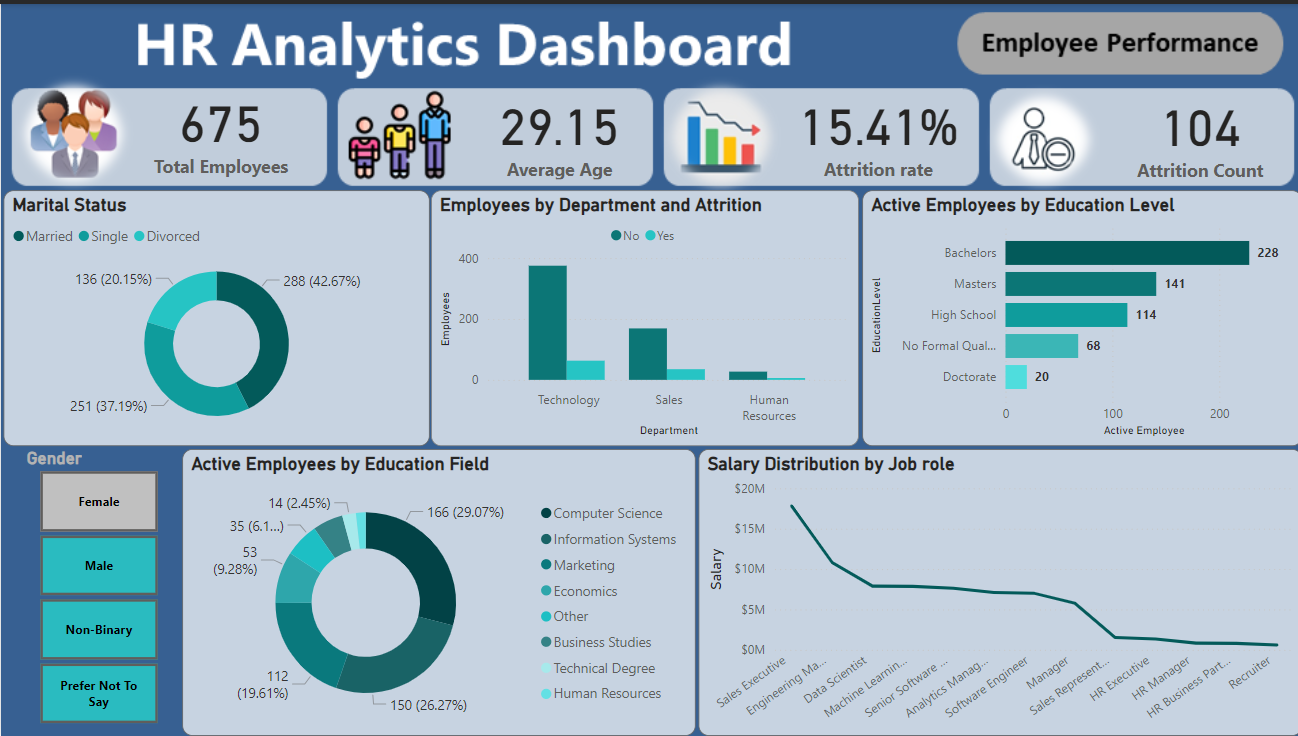

This screenshot's page, from the dashboard's own definition file:
{"tool":"powerbi","page":{"name":"Page 1","canvas":[1280,720],"ordinal":0},"visuals":[{"type":"donutChart","title":"Active Employees by Education Field","fields":{"Y":["EducationLevel.Active Employee"],"Category":["Employee.EducationField"]},"box":[178.4,436.4,503.6,281.3],"z":0},{"type":"card","fields":{"Values":["CountNonNull(Employee.EmployeeID)"]},"box":[82.2,69.9,267.5,108],"z":1000},{"type":"card","fields":{"Values":["EducationLevel.Attrition rate"]},"box":[757.1,72.4,208.6,108],"z":2000},{"type":"donutChart","title":"Marital Status","fields":{"Category":["Employee.MaritalStatus"],"Y":["CountNonNull(Employee.EmployeeID)"]},"box":[2.7,182.5,418.5,251.1],"z":3000},{"type":"lineChart","title":"Salary Distribution by Job role","fields":{"Y":["Sum(Employee.Salary)"],"Category":["Employee.JobRole"]},"box":[684.7,436.4,592.8,281.3],"z":4000},{"type":"clusteredBarChart","title":"Active Employees by Education Level","fields":{"Category":["EducationLevel.EducationLevel"],"Y":["EducationLevel.Active Employee"]},"box":[845.3,182.5,432.2,251.1],"z":5000},{"type":"card","fields":{"Values":["EducationLevel.Attrition Count"]},"box":[1101.8,73.6,150.9,108],"z":6000},{"type":"card","fields":{"Values":["Avg(Employee.Age)"]},"box":[441.7,76.1,213.5,100.6],"z":7000},{"type":"clusteredColumnChart","title":"Employees by Department and Attrition","fields":{"Series":["Employee.Attrition"],"Category":["Employee.Department"],"Y":["CountNonNull(Employee.EmployeeID)"]},"box":[422.6,182.5,419.9,251.1],"z":8000},{"type":"slicer","fields":{"Values":["Employee.Gender"]},"box":[12.3,430.7,165.6,282.2],"z":9000},{"type":"actionButton","box":[939.9,11,312.9,58.9],"z":10000}]}

Visuals, with their boxes in screenshot pixels (x1, y1, x2, y2), scaled from the page's 1280x720 canvas onto the 1298x736 screenshot:
"Active Employees by Education Field" donutChart: 181,446,692,734
card - CountNonNull(Employee.EmployeeID): 83,71,355,182
card - EducationLevel.Attrition rate: 768,74,979,184
"Marital Status" donutChart: 3,187,427,443
"Salary Distribution by Job role" lineChart: 694,446,1295,734
"Active Employees by Education Level" clusteredBarChart: 857,187,1295,443
card - EducationLevel.Attrition Count: 1117,75,1270,186
card - Avg(Employee.Age): 448,78,664,181
"Employees by Department and Attrition" clusteredColumnChart: 429,187,854,443
slicer - Employee.Gender: 12,440,180,729
actionButton: 953,11,1270,71
